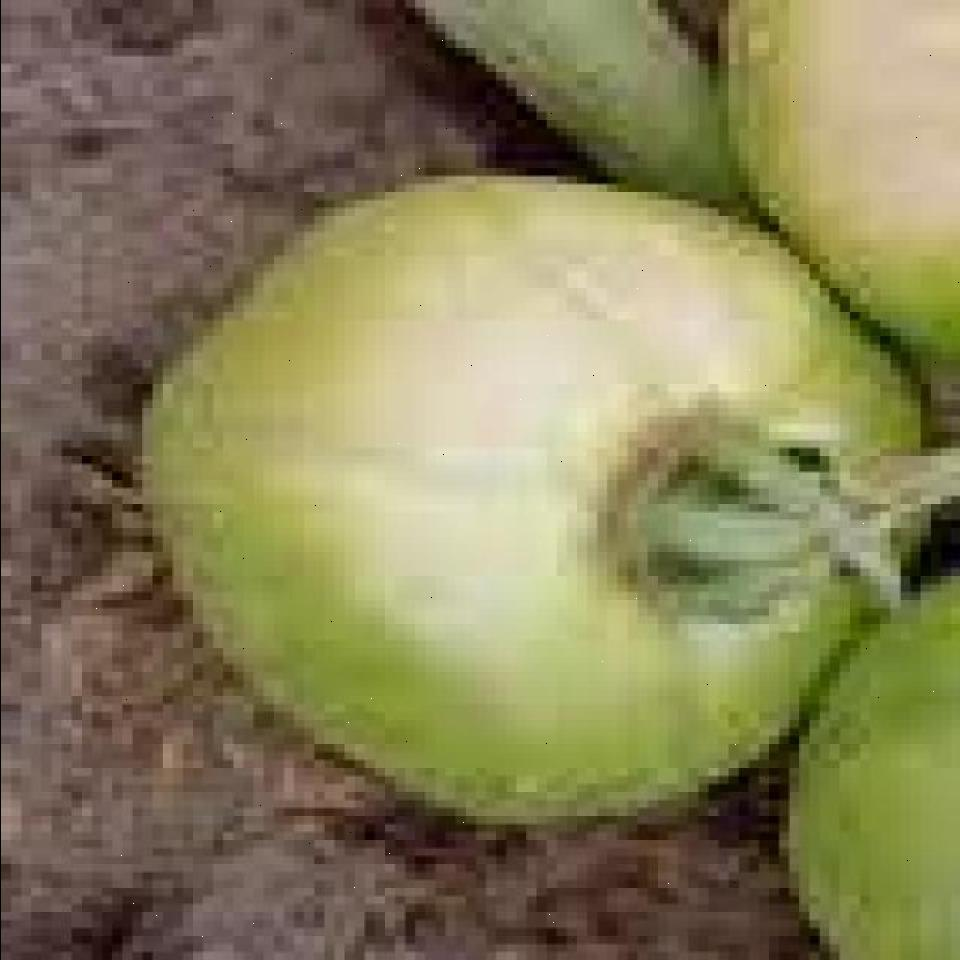Sunscald: (309, 223, 834, 760), (788, 8, 960, 353)
